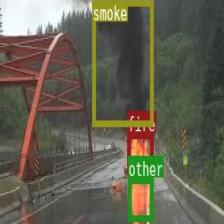fire: (126, 132, 152, 174)
smoke: (92, 0, 153, 126)
